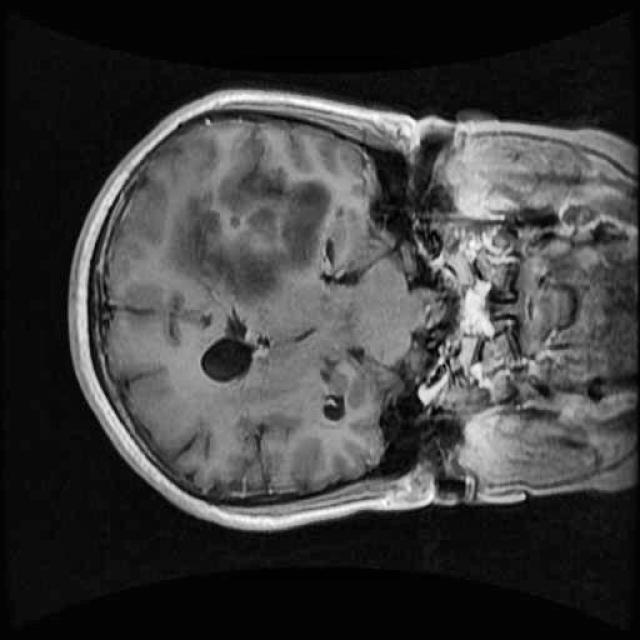Tumor: (150, 139, 346, 315)
